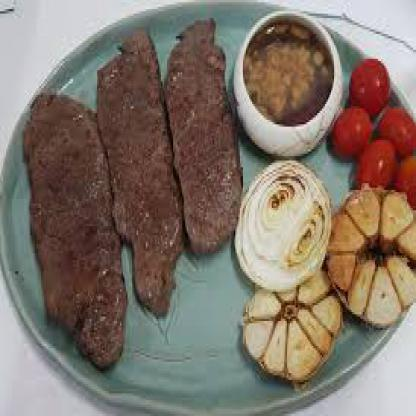Carne: (17, 93, 126, 366), (94, 43, 183, 324), (169, 15, 242, 258)
